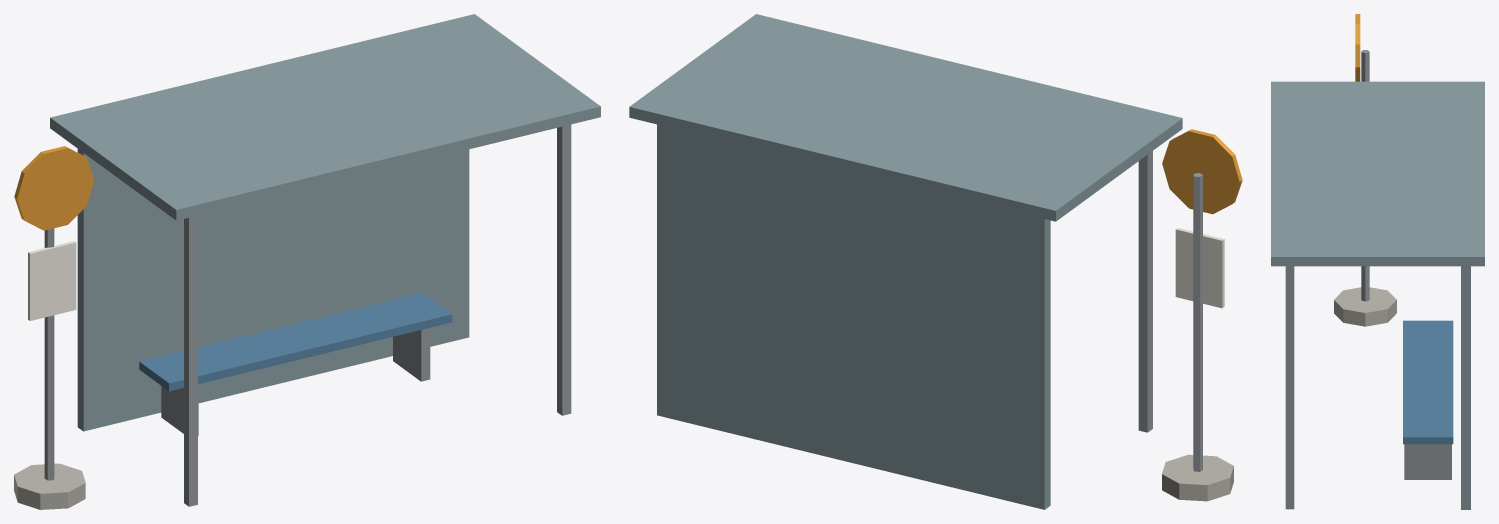
Rendered from busstop.glb.
The picture shows the model from 3 angles, left to right: view 1: azimuth 30°, elevation 25°; view 2: azimuth 150°, elevation 25°; view 3: azimuth 270°, elevation 25°; orthographic projection. The views are drawn at different scales.
Parts seen in each view (by area): view 1: busstop; view 2: busstop; view 3: busstop.
Boxes of the visible parts, box(x1,y1,x2,y2) form: busstop: box(14, 14, 600, 509); busstop: box(629, 14, 1242, 509); busstop: box(1271, 14, 1484, 509).
Bounding box in the file's own units: 4.15 × 2.59 × 1.7.
